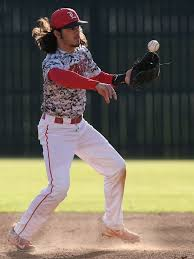baseball: (147, 39, 161, 53)
baseball player: (7, 7, 161, 254)
